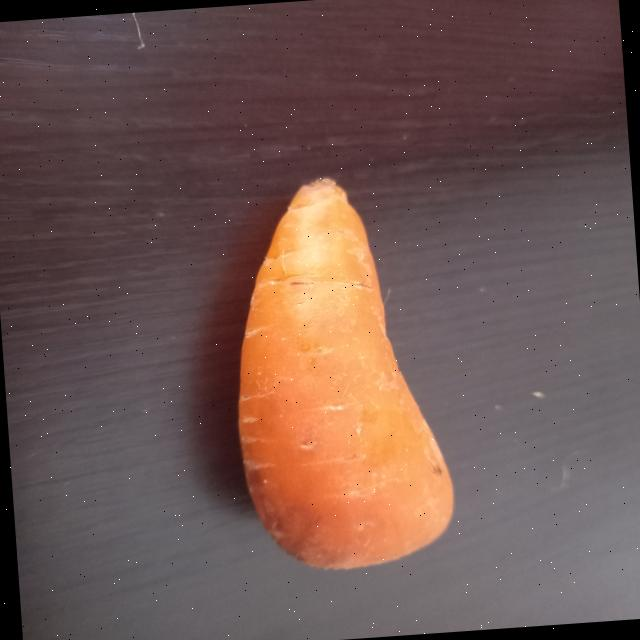carrot: (237, 179, 452, 569)
